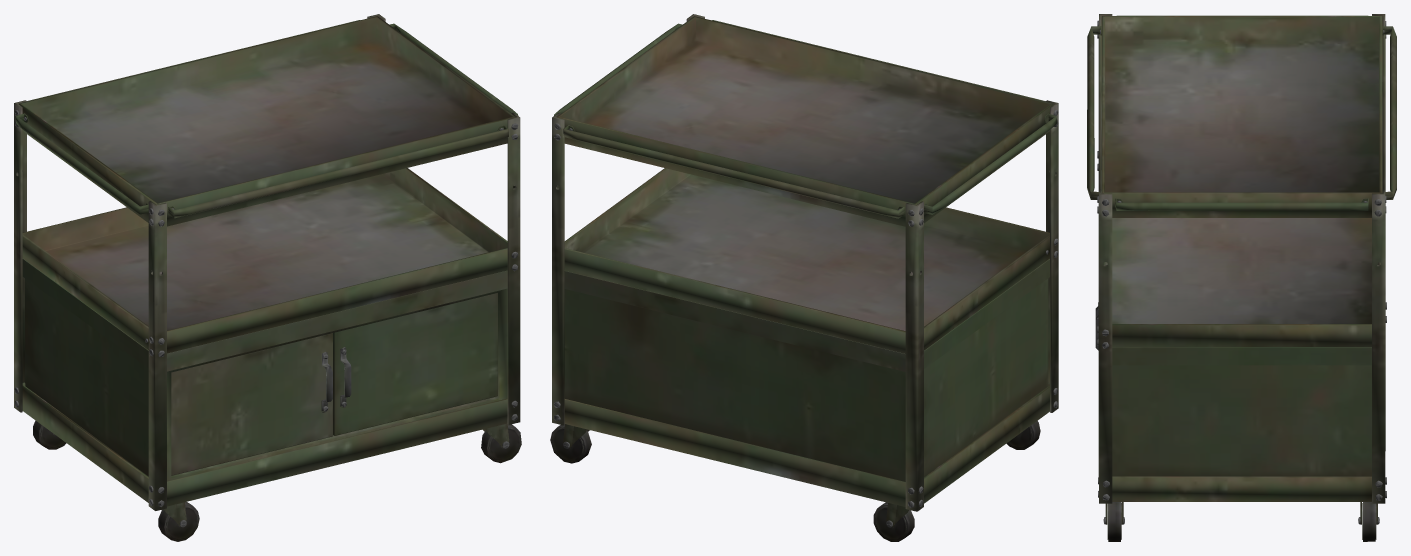
File: storageCart.glb
The picture shows the model from 3 angles, left to right: view 1: azimuth 30°, elevation 25°; view 2: azimuth 150°, elevation 25°; view 3: azimuth 270°, elevation 25°; orthographic projection.
Visible parts, largest first — view 1: industrial_storage_cart; view 2: industrial_storage_cart; view 3: industrial_storage_cart.
Part boxes in pixels (x1=…): industrial_storage_cart: x1=14, y1=14, x2=521, y2=541; industrial_storage_cart: x1=550, y1=14, x2=1058, y2=541; industrial_storage_cart: x1=1087, y1=14, x2=1396, y2=541.
Size of the model in its own units: 1.6 by 1.38 by 1.1.
1 material, 1 textured.
